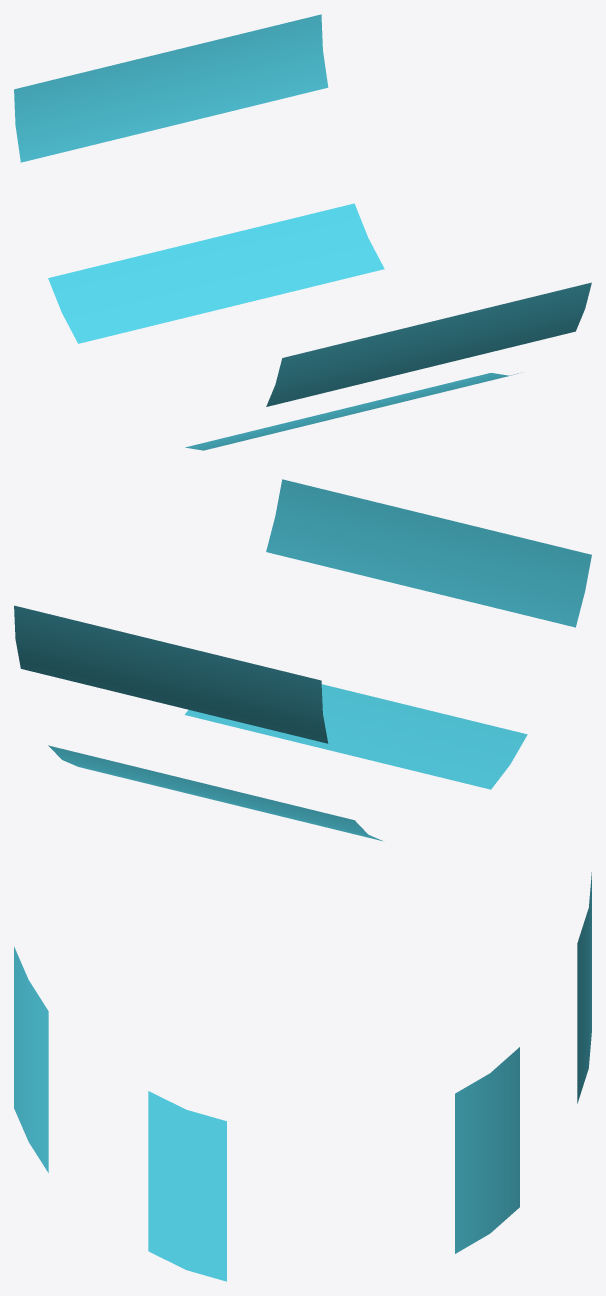
The model's file is saunaRoomGlass.fbx.
3 views of the same model, one above another, from view 1: azimuth 30°, elevation 25°; view 2: azimuth 150°, elevation 25°; view 3: azimuth 270°, elevation 25° (orthographic). The views are drawn at different scales.
Parts seen in each view (by area): view 1: saunaRoomGlass; view 2: saunaRoomGlass; view 3: saunaRoomGlass.
Boxes of the visible parts, left/top/right/bottom form: saunaRoomGlass: left=14, top=14, right=591, bottom=450; saunaRoomGlass: left=14, top=479, right=591, bottom=841; saunaRoomGlass: left=14, top=872, right=591, bottom=1281.
Bounding box in the file's own units: 145 × 105 × 219.
